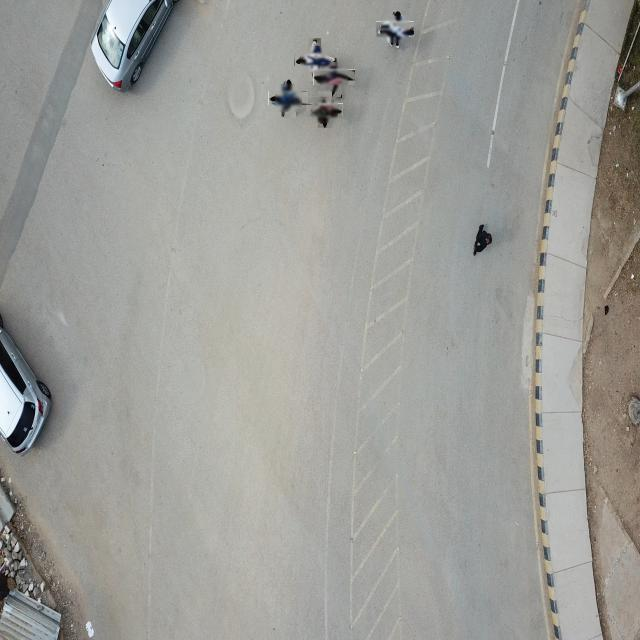Manusia: (320, 62, 349, 93), (300, 46, 330, 74), (381, 16, 410, 44), (275, 84, 303, 113), (472, 222, 494, 256), (312, 97, 339, 124)
